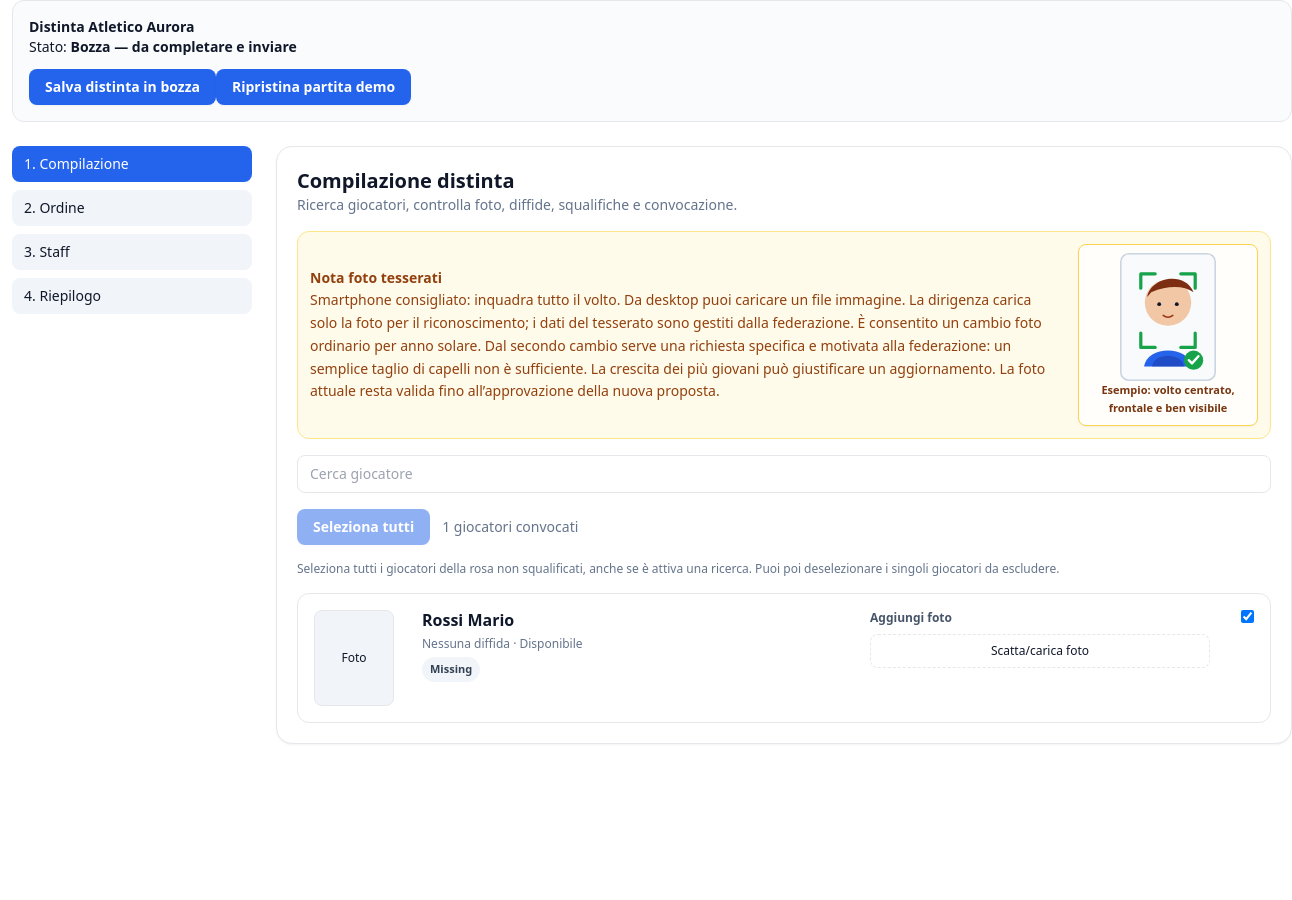
Scenario: never replaces an existing draft with previous-game defaults
This screenshot has width=1292, height=900.
Expected: the text "Rossi Mario" is shown, [422,609,514,631]
Step 1. Click the button "2. Ordine" → (132, 208), box [12,190,252,226]
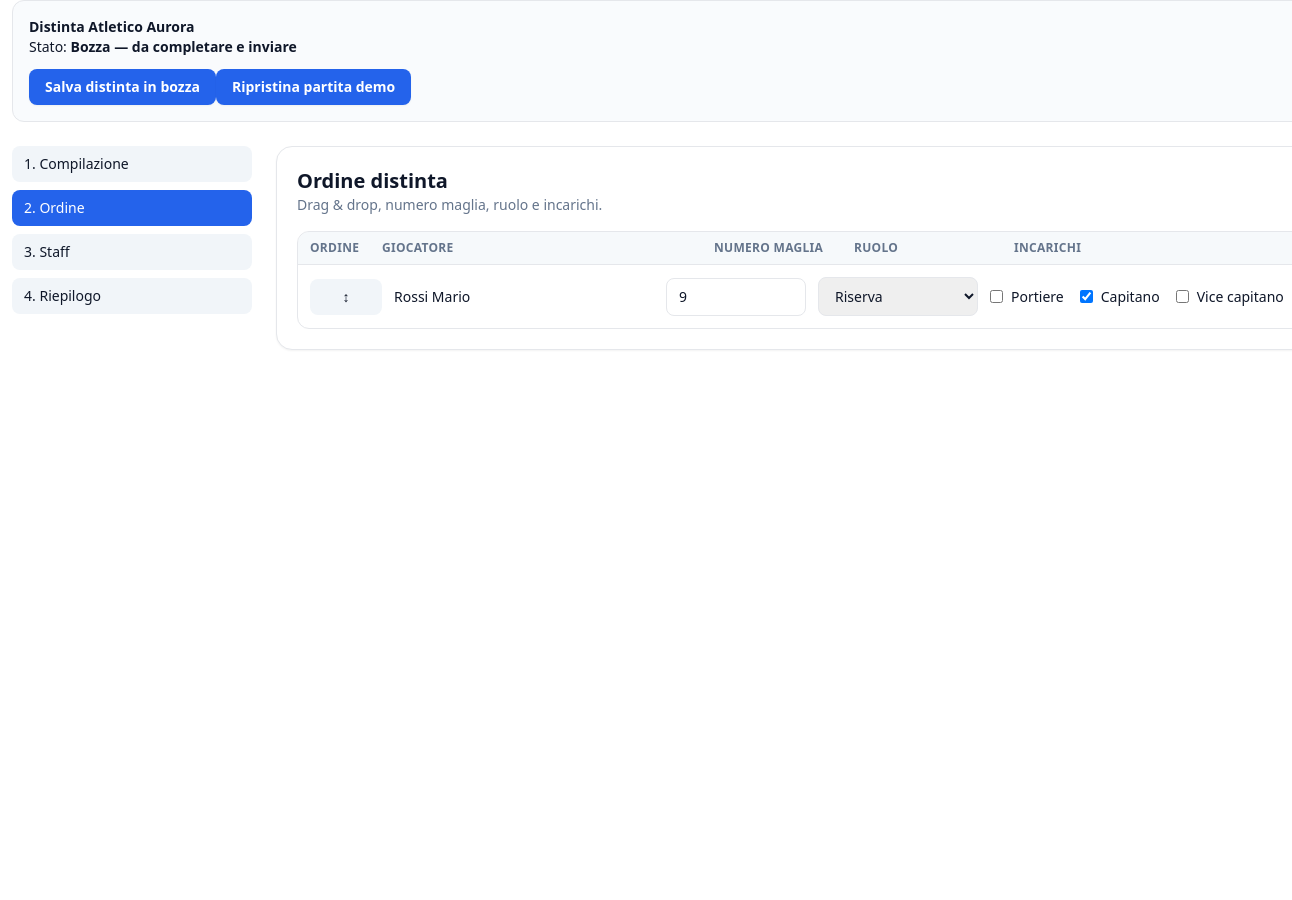
Expected: the checkbox labelled "Capitano" is checked, [1080,290,1093,303]
Result: the number field holds "9" at [666,278,806,316]
Result: the checkbox labelled "Portiere" is not checked at [990,290,1003,303]
